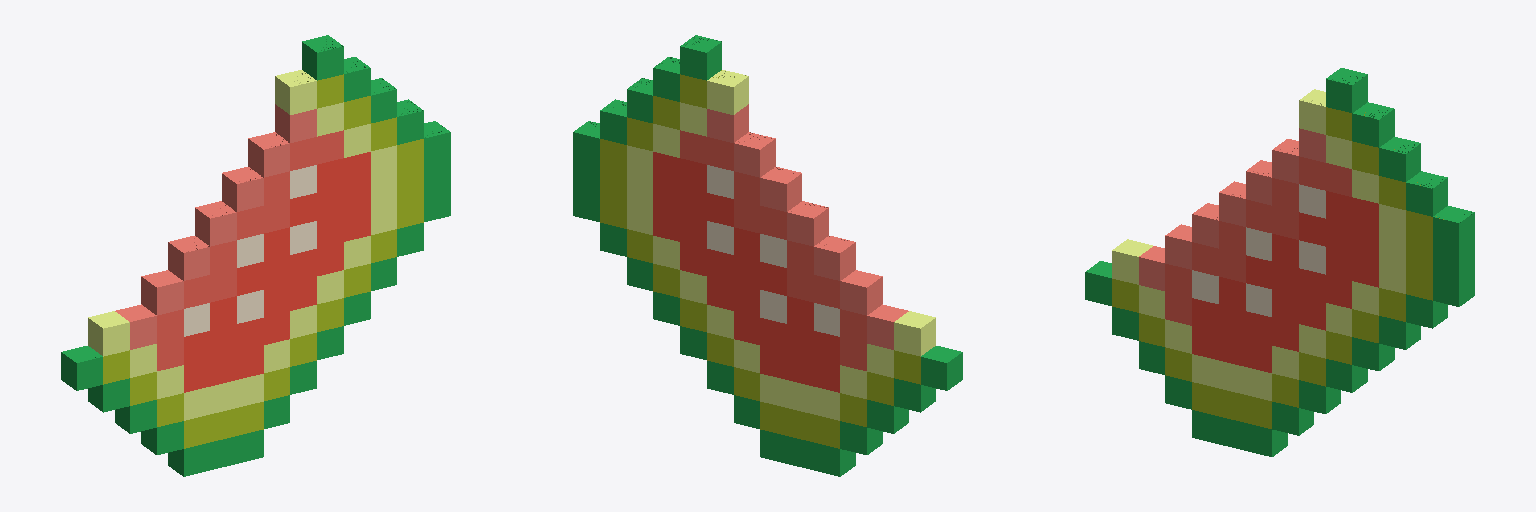
3 views of the same model, side by side, from view 1: azimuth 30°, elevation 25°; view 2: azimuth 150°, elevation 25°; view 3: azimuth 330°, elevation 25° (orthographic).
Bounding box in the file's own units: 0.875 × 0.875 × 0.0625.
Materials: 1 (1 with a texture image).